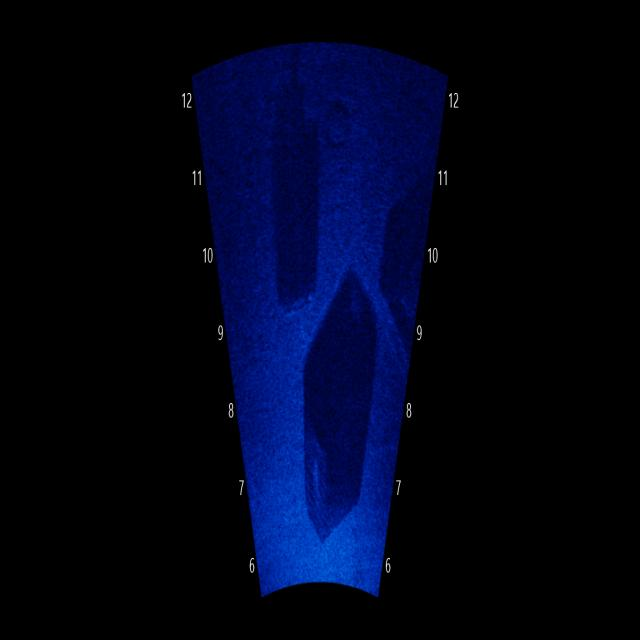square: (302, 266, 380, 547), (269, 53, 328, 322)
